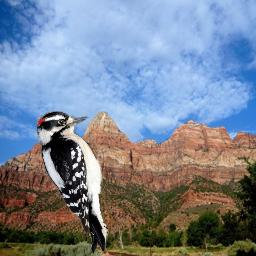Woodpecker: (37, 111, 109, 254)
